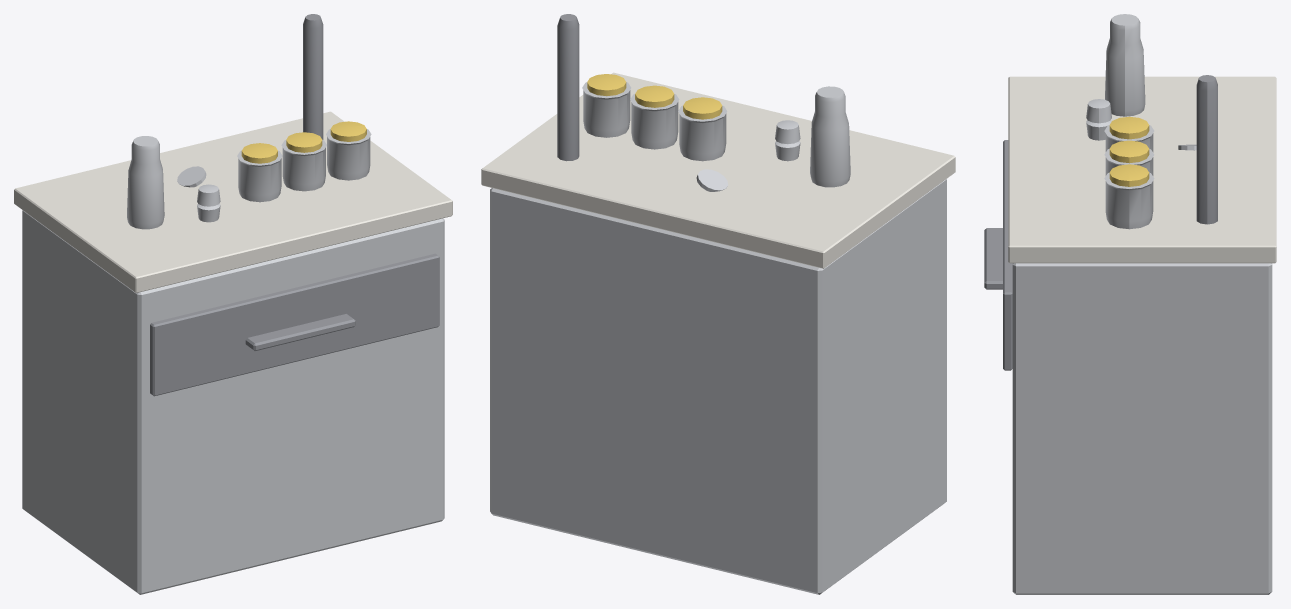
File: nightclub-and-dj-booth-cocktail-station-d186e438.glb
The picture shows the model from 3 angles, left to right: view 1: azimuth 30°, elevation 25°; view 2: azimuth 150°, elevation 25°; view 3: azimuth 270°, elevation 25°; orthographic projection. The views are drawn at different scales.
Parts seen in each view (by area): view 1: cocktail-station, drawer; view 2: cocktail-station; view 3: cocktail-station, drawer.
Boxes of the visible parts, x1=… form: cocktail-station: x1=14, y1=14, x2=452, y2=594; drawer: x1=150, y1=253, x2=439, y2=396; cocktail-station: x1=481, y1=14, x2=955, y2=594; cocktail-station: x1=1008, y1=14, x2=1276, y2=594; drawer: x1=984, y1=140, x2=1012, y2=370.
Bounding box in the file's own units: 0.93 × 1.26 × 0.675.
